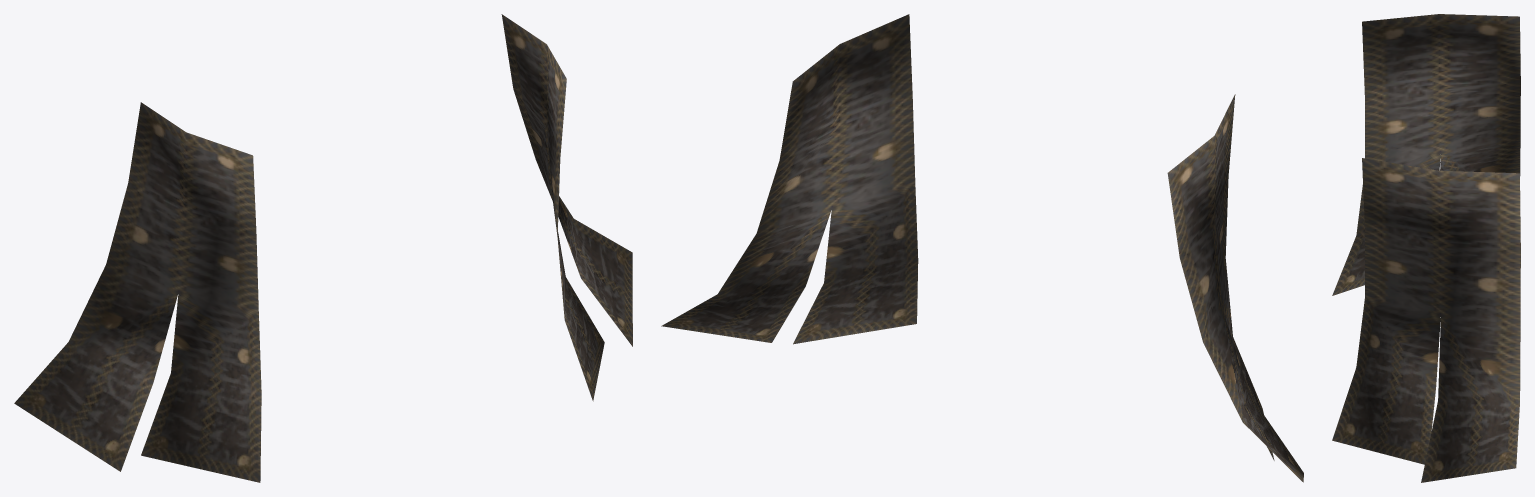
The model's file is clo_dunland_wulf_helmet_d.fbx.
3 views of the same model, side by side, from view 1: azimuth 30°, elevation 25°; view 2: azimuth 150°, elevation 25°; view 3: azimuth 270°, elevation 25° (orthographic). The views are drawn at different scales.
Parts seen in each view (by area): view 1: clo_dunland_wulf_helmet_d; view 2: clo_dunland_wulf_helmet_d; view 3: clo_dunland_wulf_helmet_d.
Part boxes in pixels (box(x1,y1,x2,y2)): clo_dunland_wulf_helmet_d: box(14, 14, 632, 482); clo_dunland_wulf_helmet_d: box(661, 14, 1303, 482); clo_dunland_wulf_helmet_d: box(1332, 14, 1520, 482).
Size of the model in its own units: 0.3247 by 0.0964 by 0.1589.
Materials: 1 (1 with a texture image).
